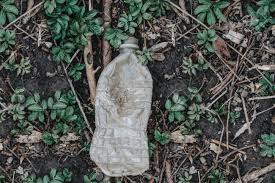plastic_bottle: (90, 36, 153, 177)
